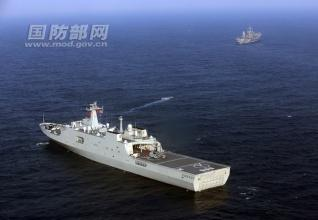warship: (36, 98, 232, 190), (234, 26, 263, 45)
